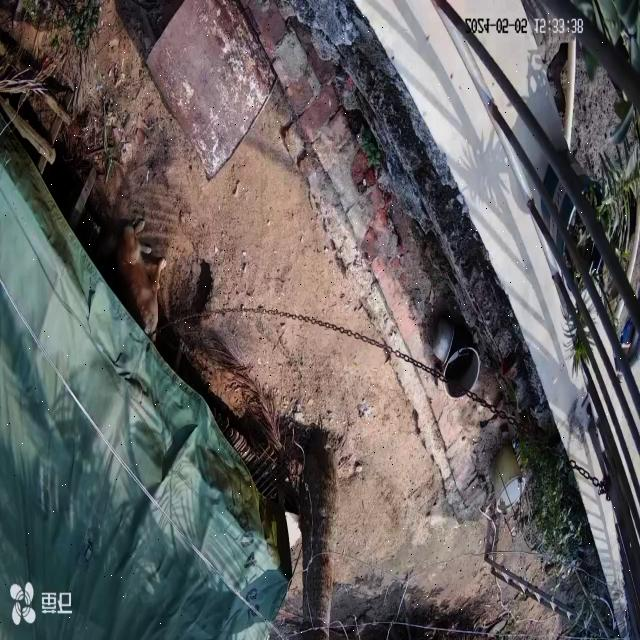dog: (98, 221, 168, 339)
